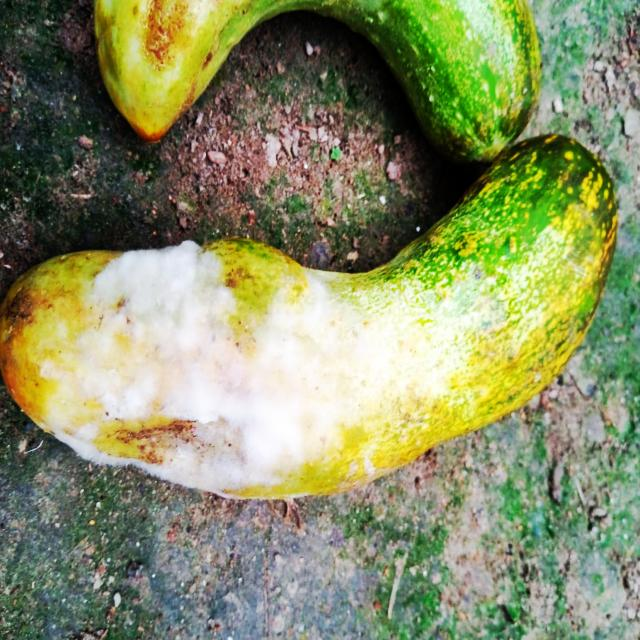Pythium-Fruit-Rot: (55, 242, 374, 500)
